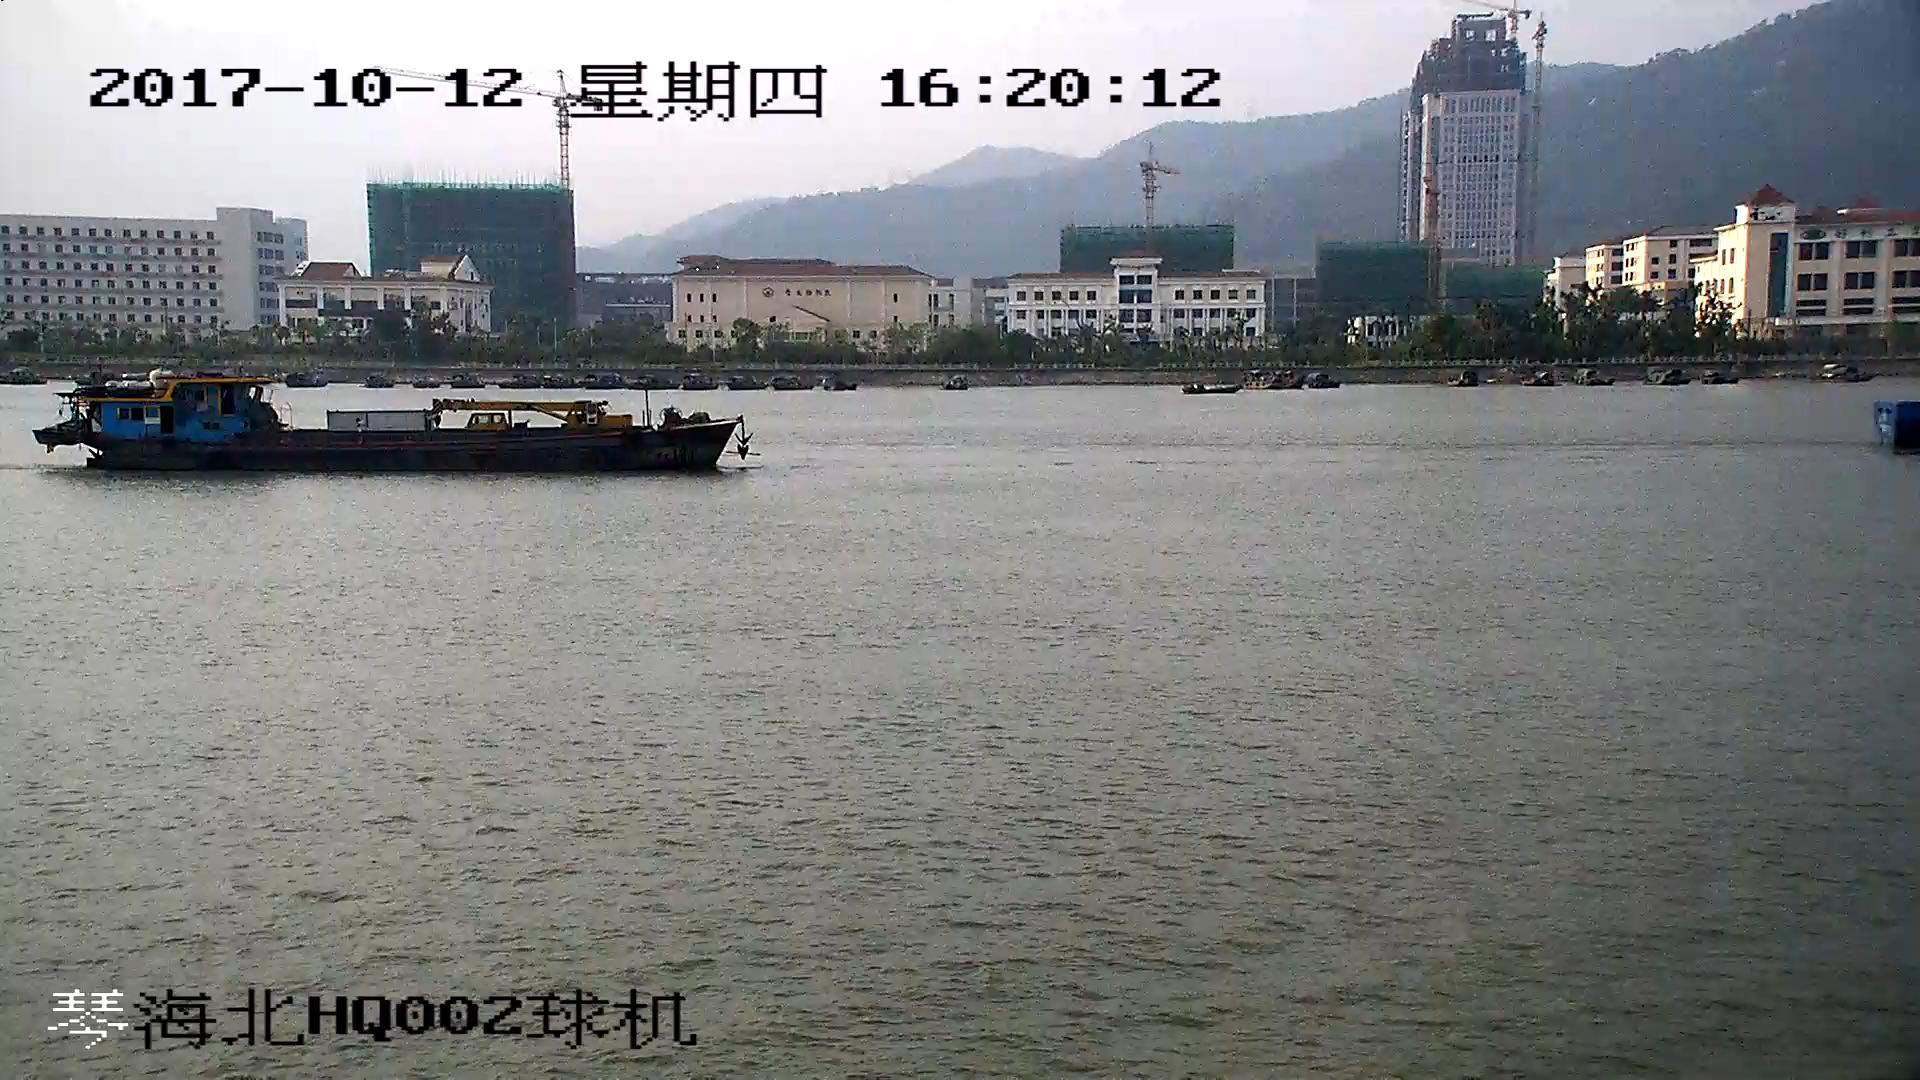fishing boat: (33, 372, 751, 473)
